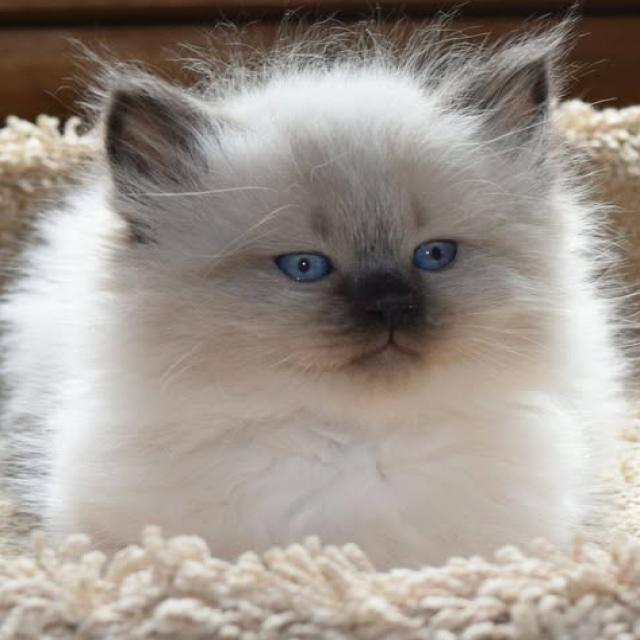Neva Masquerade: (0, 18, 636, 578)
